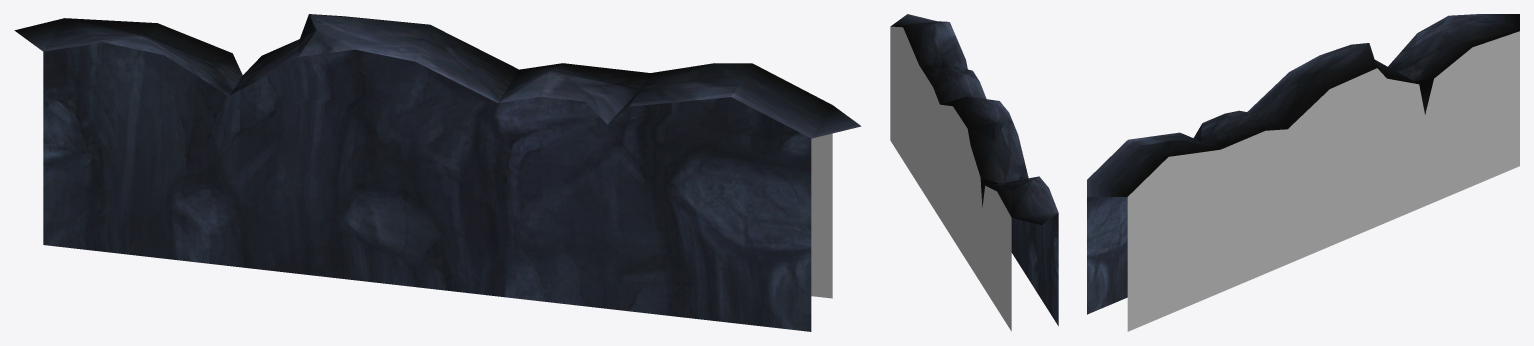
The model's file is mine_broken_diagonal_02.fbx.
3 views of the same model, side by side, from view 1: azimuth 30°, elevation 25°; view 2: azimuth 150°, elevation 25°; view 3: azimuth 270°, elevation 25° (orthographic). The views are drawn at different scales.
Visible parts, largest first — view 1: mine_broken_diagonal_02-0; view 2: mine_broken_diagonal_02-0; view 3: mine_broken_diagonal_02-0.
Part boxes in pixels (left/top/right/bottom): mine_broken_diagonal_02-0: left=14, top=14, right=861, bottom=331; mine_broken_diagonal_02-0: left=890, top=14, right=1058, bottom=331; mine_broken_diagonal_02-0: left=1087, top=14, right=1519, bottom=331.
Bounding box in the file's own units: 4 × 1.73 × 4.
